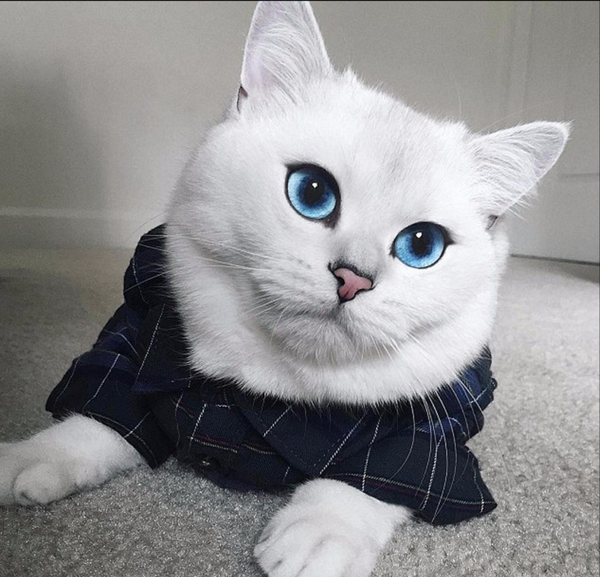cat: (168, 10, 552, 374)
